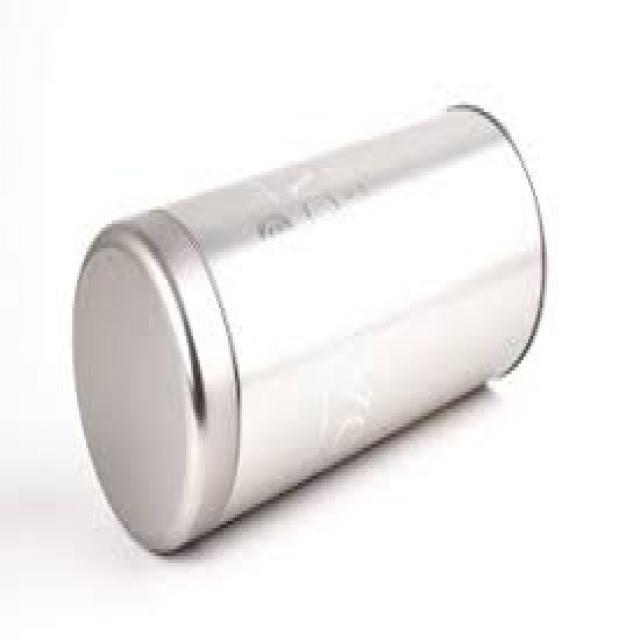recyclable: (69, 104, 546, 557)
